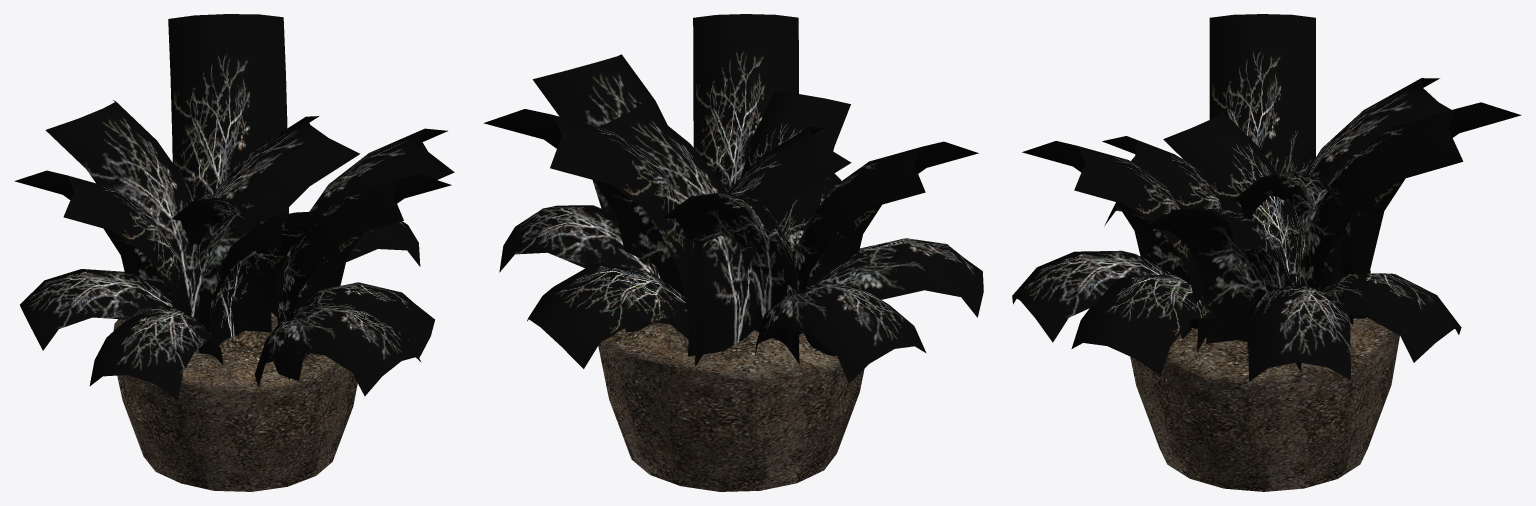
File: flower_barrel_dead_p11.glb
The picture shows the model from 3 angles, left to right: view 1: azimuth 30°, elevation 25°; view 2: azimuth 150°, elevation 25°; view 3: azimuth 270°, elevation 25°; orthographic projection. The views are drawn at different scales.
Visible parts, largest first — view 1: flower_barrel_dead_p11; view 2: flower_barrel_dead_p11; view 3: flower_barrel_dead_p11.
Boxes of the visible parts, x1,y1,x2,y2 form: flower_barrel_dead_p11: [14, 14, 454, 491]; flower_barrel_dead_p11: [483, 14, 983, 491]; flower_barrel_dead_p11: [1012, 14, 1521, 491].
Bounding box in the file's own units: 1.21 × 1.02 × 1.24.
1 material, 1 textured.
